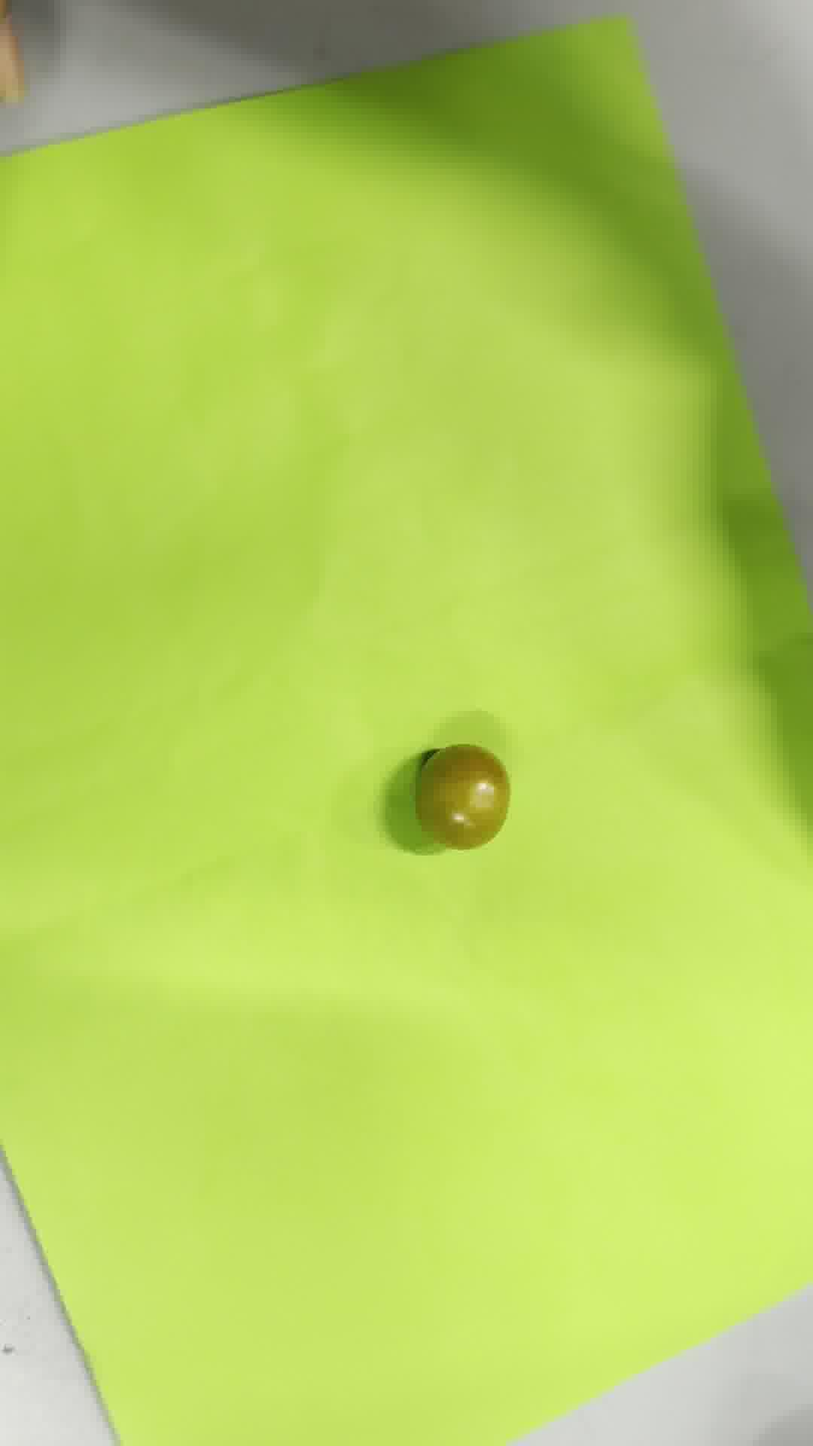yellow_cherry_tomato: (416, 745, 510, 850)
